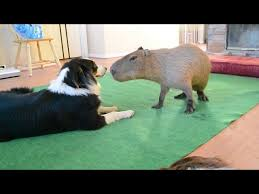capivara: (111, 43, 213, 115)
